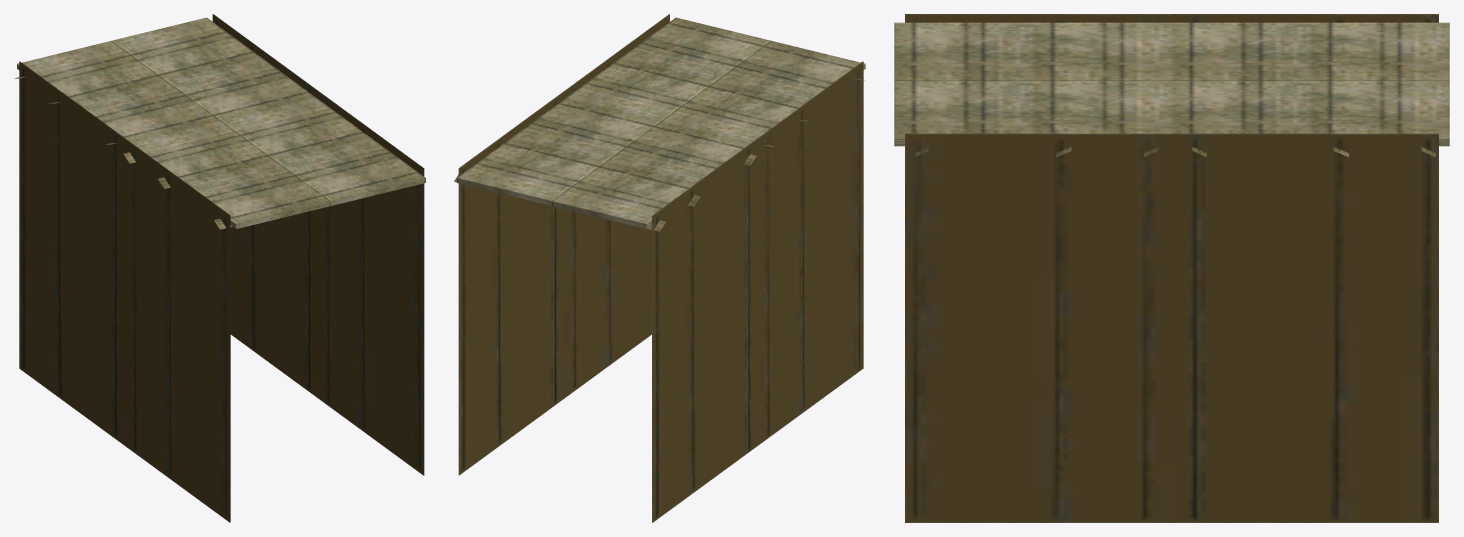
The model's file is thm_endr_lake_platform_rectangle_s01_l3.fbx.
The picture shows the model from 3 angles, left to right: view 1: azimuth 30°, elevation 25°; view 2: azimuth 150°, elevation 25°; view 3: azimuth 270°, elevation 25°; orthographic projection. The views are drawn at different scales.
Visible parts, largest first — view 1: mesh_node; view 2: mesh_node; view 3: mesh_node.
Part boxes in pixels (<box>): mesh_node: <box>15,14,425,522</box>; mesh_node: <box>454,14,865,522</box>; mesh_node: <box>894,14,1449,522</box>.
Bounding box in the file's own units: 8.68 × 12.37 × 16.
Materials: 2 (2 with a texture image).
